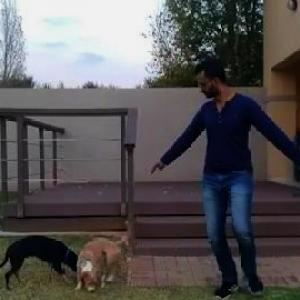land: (143, 55, 299, 299)
